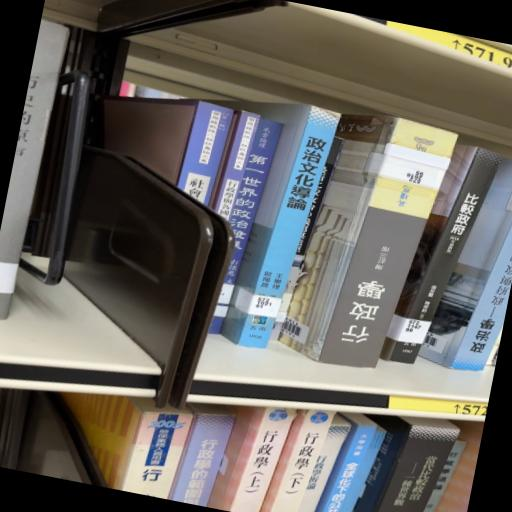reverse: (279, 114, 457, 368)
